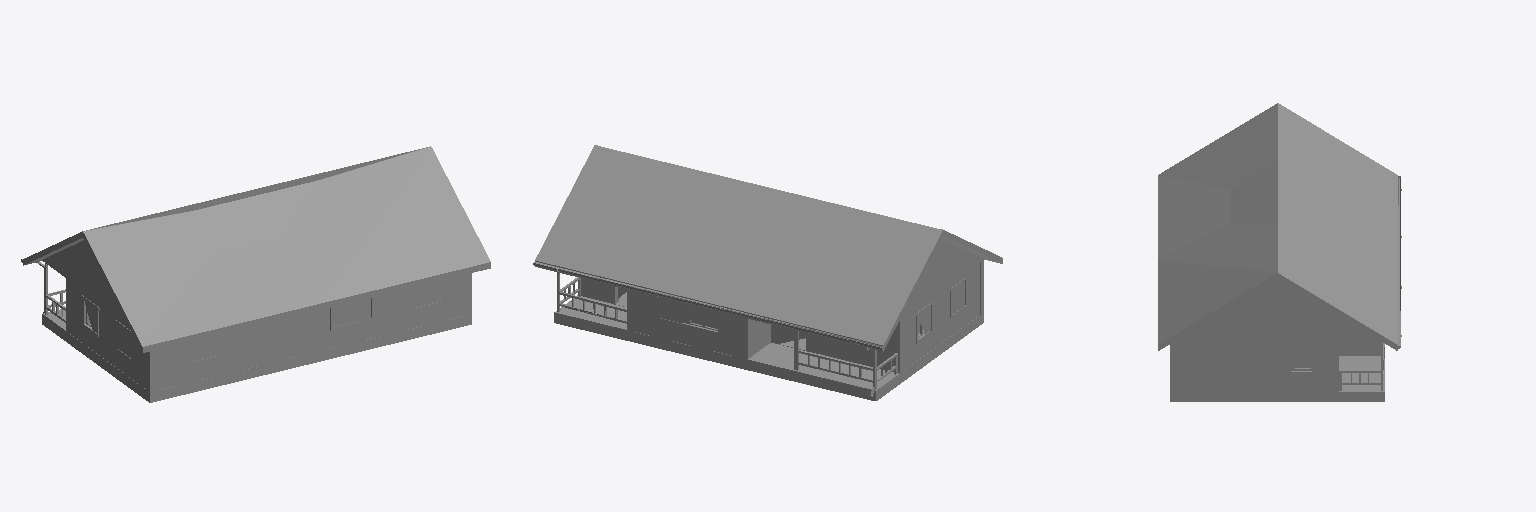
Rendered from house1.obj.
3 views of the same model, side by side, from view 1: azimuth 30°, elevation 25°; view 2: azimuth 150°, elevation 25°; view 3: azimuth 270°, elevation 25° (orthographic).
Parts seen in each view (by area): view 1: House_Плоскость; view 2: House_Плоскость; view 3: House_Плоскость.
Part boxes in pixels (x1,y1,x2,y2): House_Плоскость: (21, 146, 490, 402); House_Плоскость: (533, 145, 1002, 400); House_Плоскость: (1158, 103, 1401, 401).
Bounding box in the file's own units: 20.63 × 7.68 × 12.5.